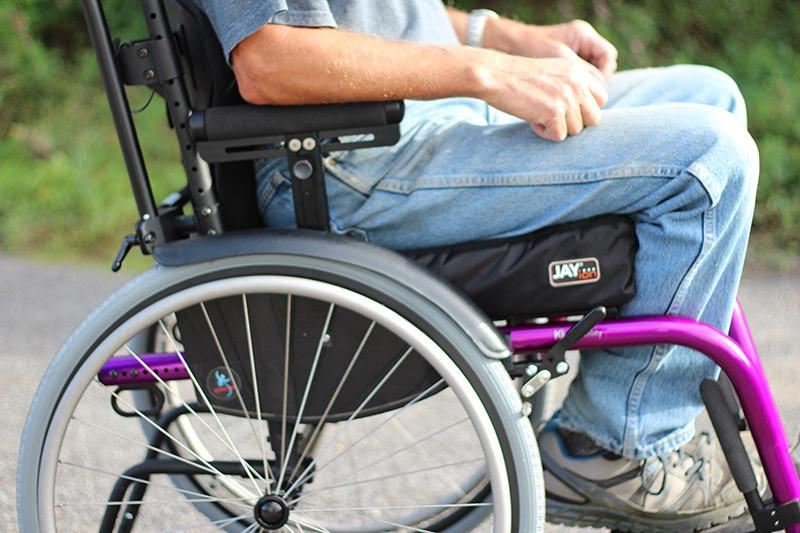wheelchair: (6, 2, 800, 480)
